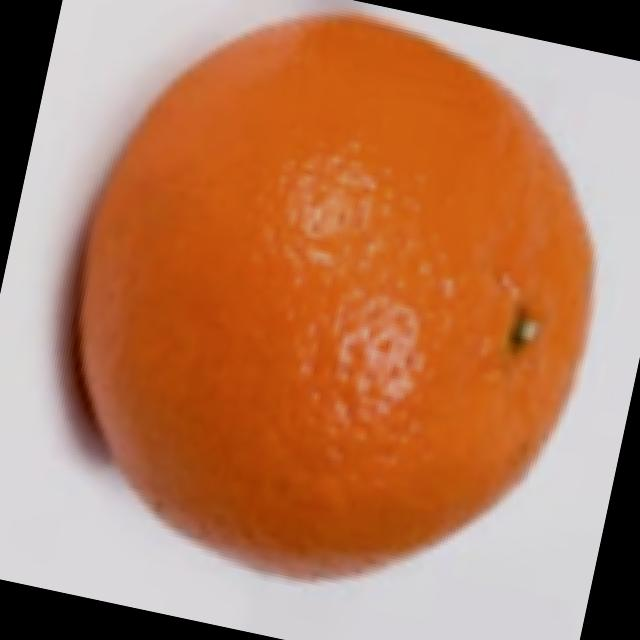orange: (14, 0, 640, 640)
